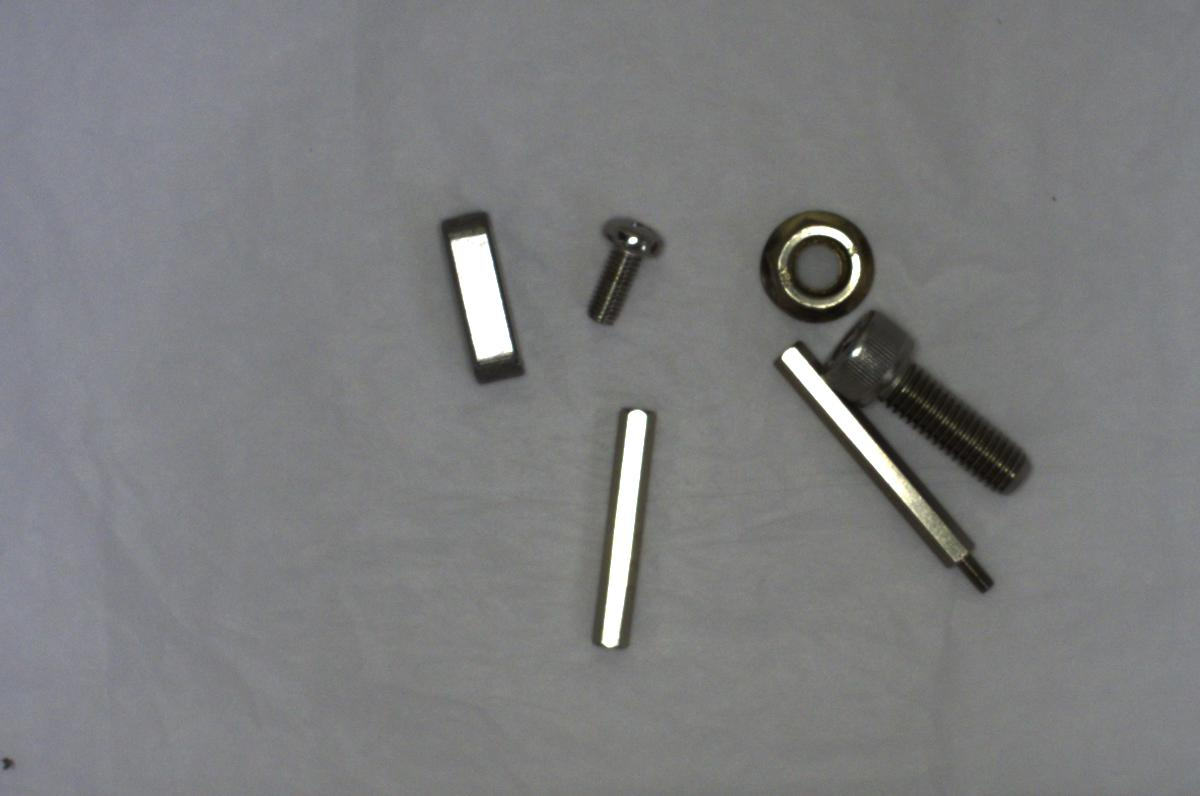Double hexagonal column: (573, 400, 662, 658)
Flange nut: (751, 206, 883, 327)
Hexagon screw: (830, 310, 1034, 498)
Hexagonal steel column: (765, 339, 1006, 600)
Keybar: (430, 201, 528, 389)
Round head screw: (578, 212, 667, 326)
